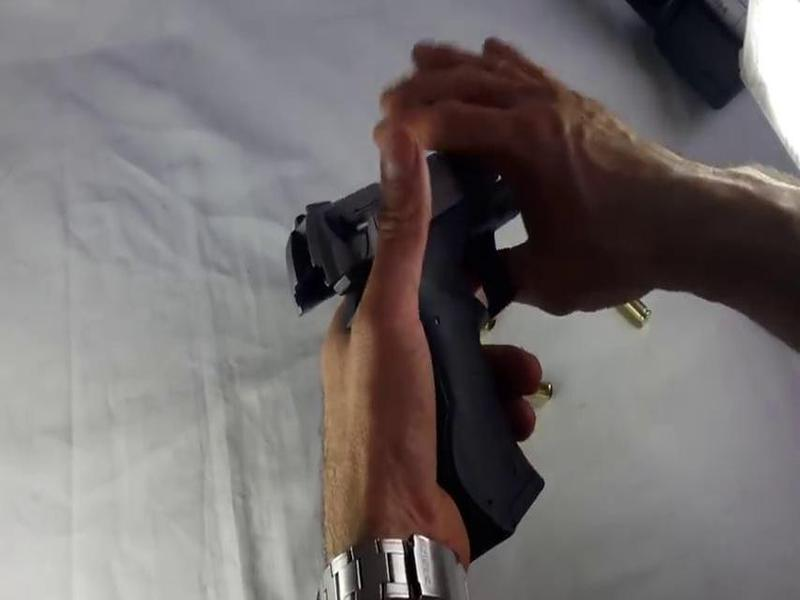Pistola: (268, 107, 554, 556)
